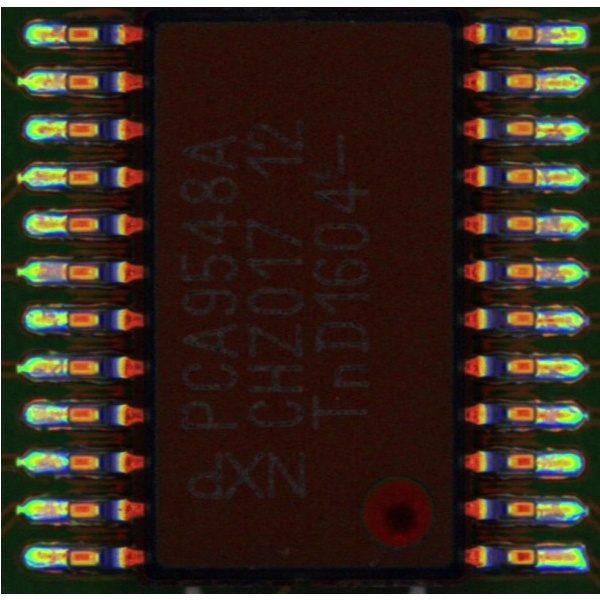Bad_podu: (517, 73, 552, 88), (519, 215, 551, 231), (518, 455, 555, 468), (521, 310, 552, 325), (517, 168, 550, 182), (519, 27, 554, 40), (521, 550, 552, 564), (518, 122, 554, 134), (46, 75, 82, 86), (48, 265, 80, 277), (522, 503, 551, 516), (519, 267, 550, 279), (519, 360, 550, 371), (46, 170, 80, 180), (518, 408, 550, 418), (47, 551, 82, 560), (51, 27, 79, 38), (52, 216, 79, 227), (59, 407, 75, 421)
